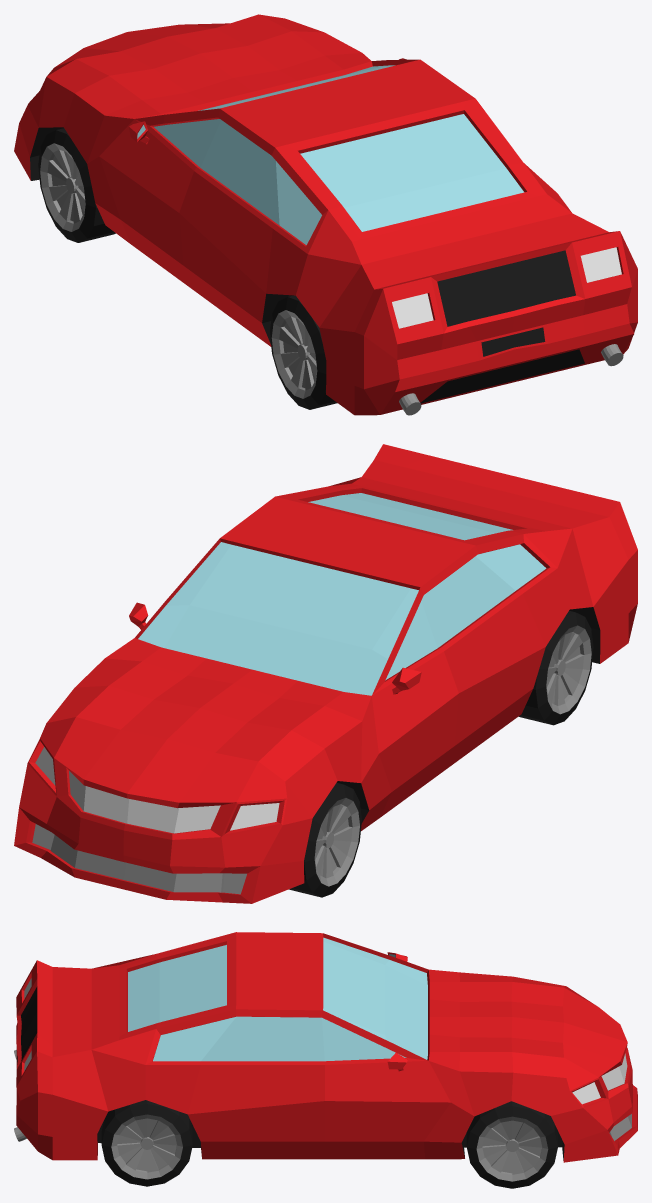
The model's file is mustangFixOrigins.fbx.
3 views of the same model, one above another, from view 1: azimuth 30°, elevation 25°; view 2: azimuth 150°, elevation 25°; view 3: azimuth 270°, elevation 25° (orthographic). The views are drawn at different scales.
Visible parts, largest first — view 1: Cube, Cube.003, Cube.002; view 2: Cube, Cube.002, Cube.003; view 3: Cube, Cube.005, Cube.004.
Boxes of the visible parts, x1,y1,x2,y2 form: Cube: (14, 14, 637, 415); Cube.003: (38, 128, 115, 242); Cube.002: (270, 295, 337, 409); Cube: (14, 444, 637, 903); Cube.002: (518, 610, 593, 725); Cube.003: (289, 783, 361, 897); Cube: (14, 932, 637, 1162); Cube.005: (101, 1100, 192, 1186); Cube.004: (466, 1101, 557, 1188).
Bounding box in the file's own units: 187 × 133 × 449.
